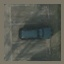car: (19, 27, 53, 40)
